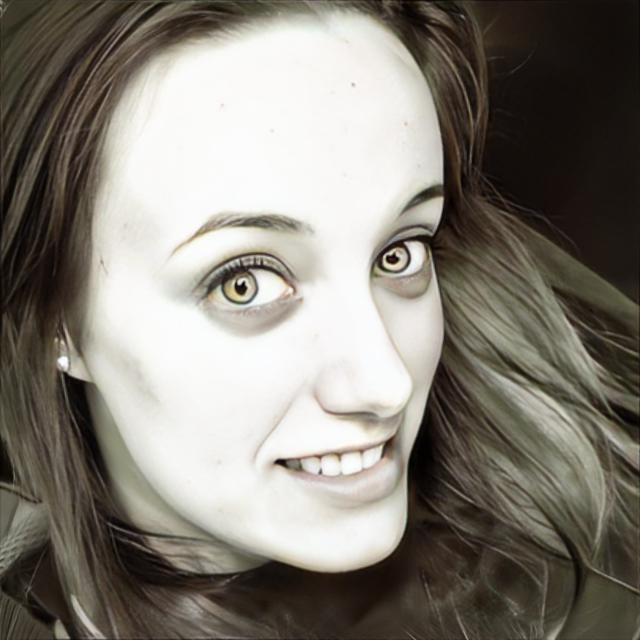happy: (85, 7, 450, 576)
